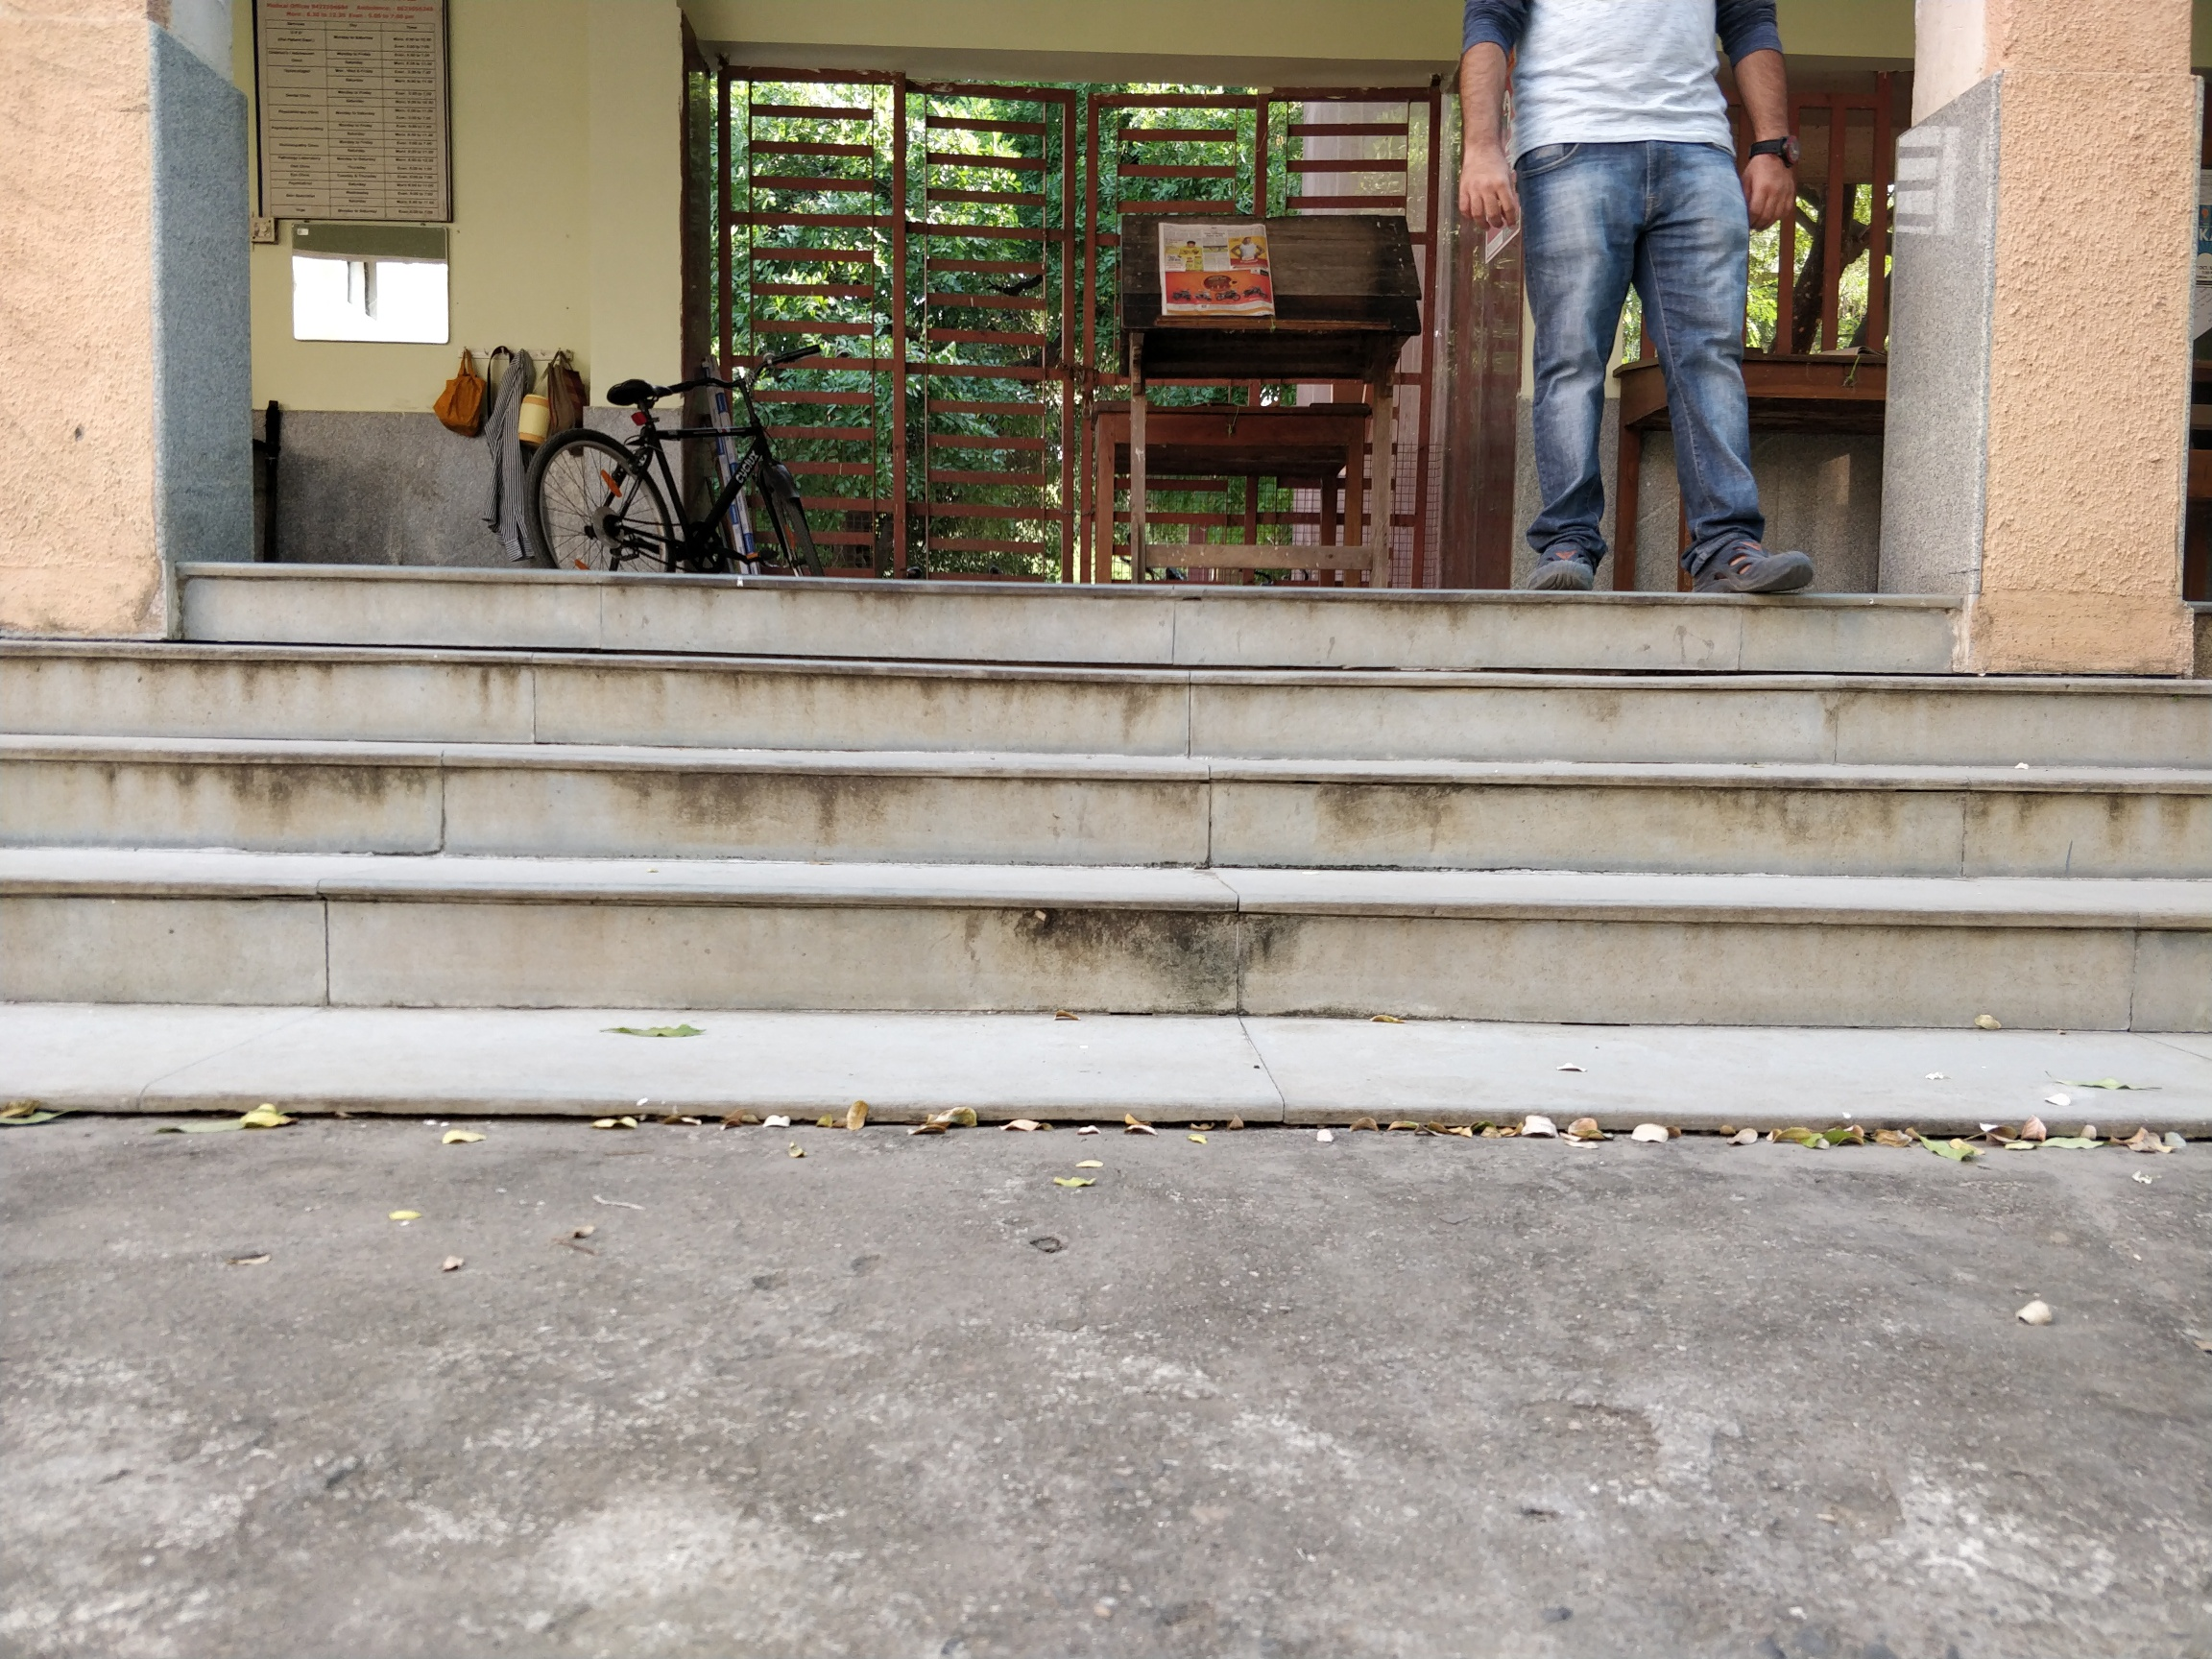stairs_up: (10, 552, 2212, 1070)
